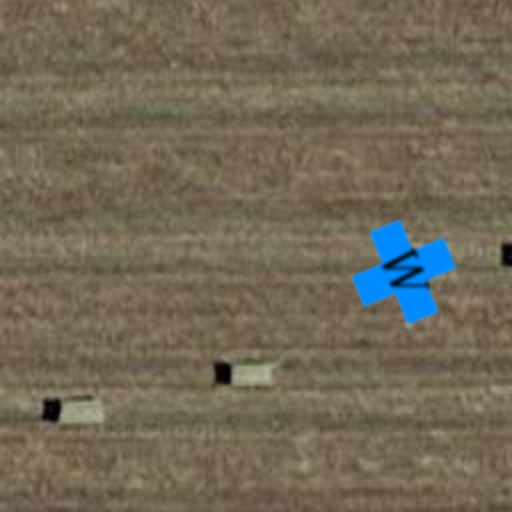cross: (338, 206, 470, 338)
